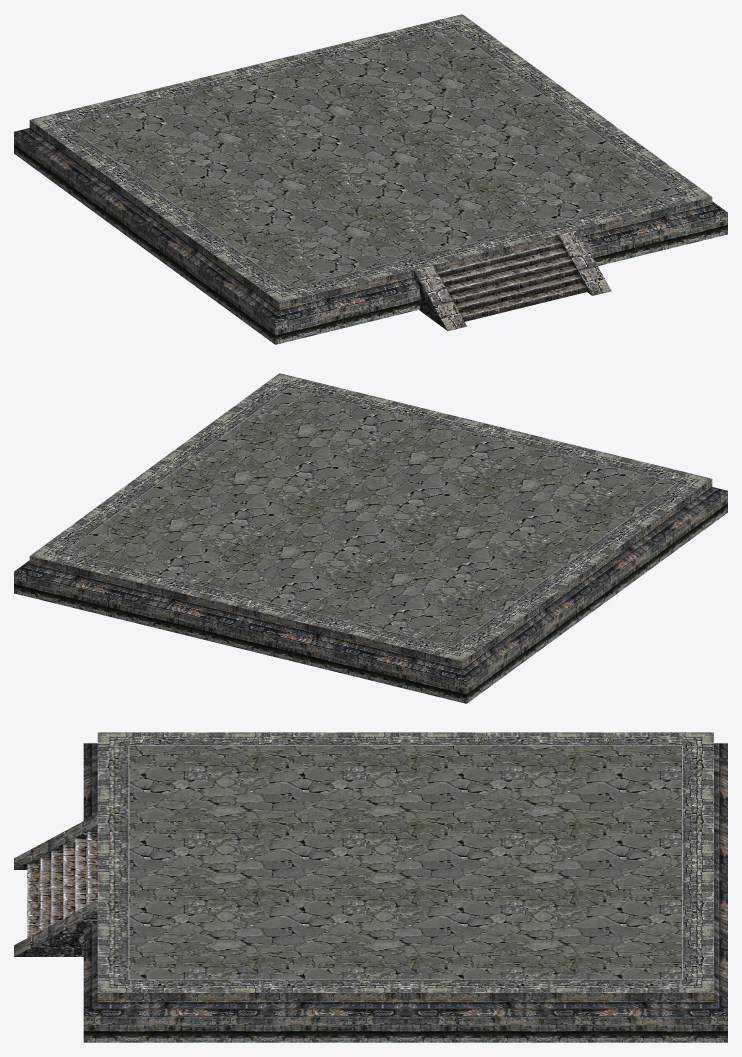
File: Desert_building01.FBX
The picture shows the model from 3 angles, top to bottom: view 1: azimuth 30°, elevation 25°; view 2: azimuth 150°, elevation 25°; view 3: azimuth 270°, elevation 25°; orthographic projection. The views are drawn at different scales.
Parts seen in each view (by area): view 1: 0052_2mayan02s; view 2: 0052_2mayan02s; view 3: 0052_2mayan02s.
Part boxes in pixels (x1,y1,x2,y2): 0052_2mayan02s: (14,14,727,344); 0052_2mayan02s: (14,373,727,703); 0052_2mayan02s: (14,732,727,1042).
Bounding box in the file's own units: 2353 × 182 × 2607.
Materials: 5 (5 with a texture image).
